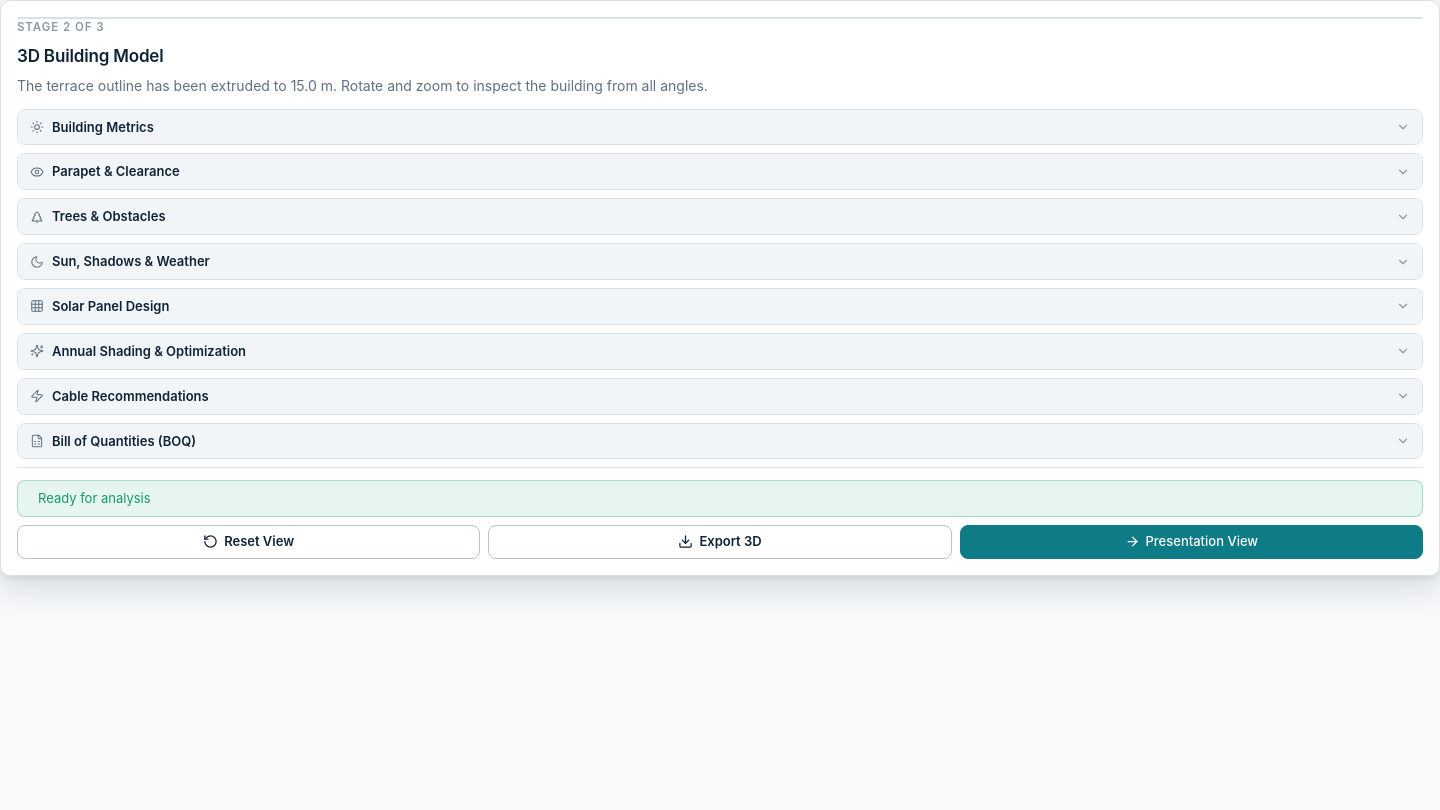
Test case: ModelPanel default-collapsed inspector sections › expands the Bill of Quantities (BOQ) collapsible section and shows BOM content & CSV download
// Expand BOQ
Click the button with class "collapsible-section__header" showing "Bill of Quantities (BOQ)".
click(124, 441)  # box [18,424,1422,458]
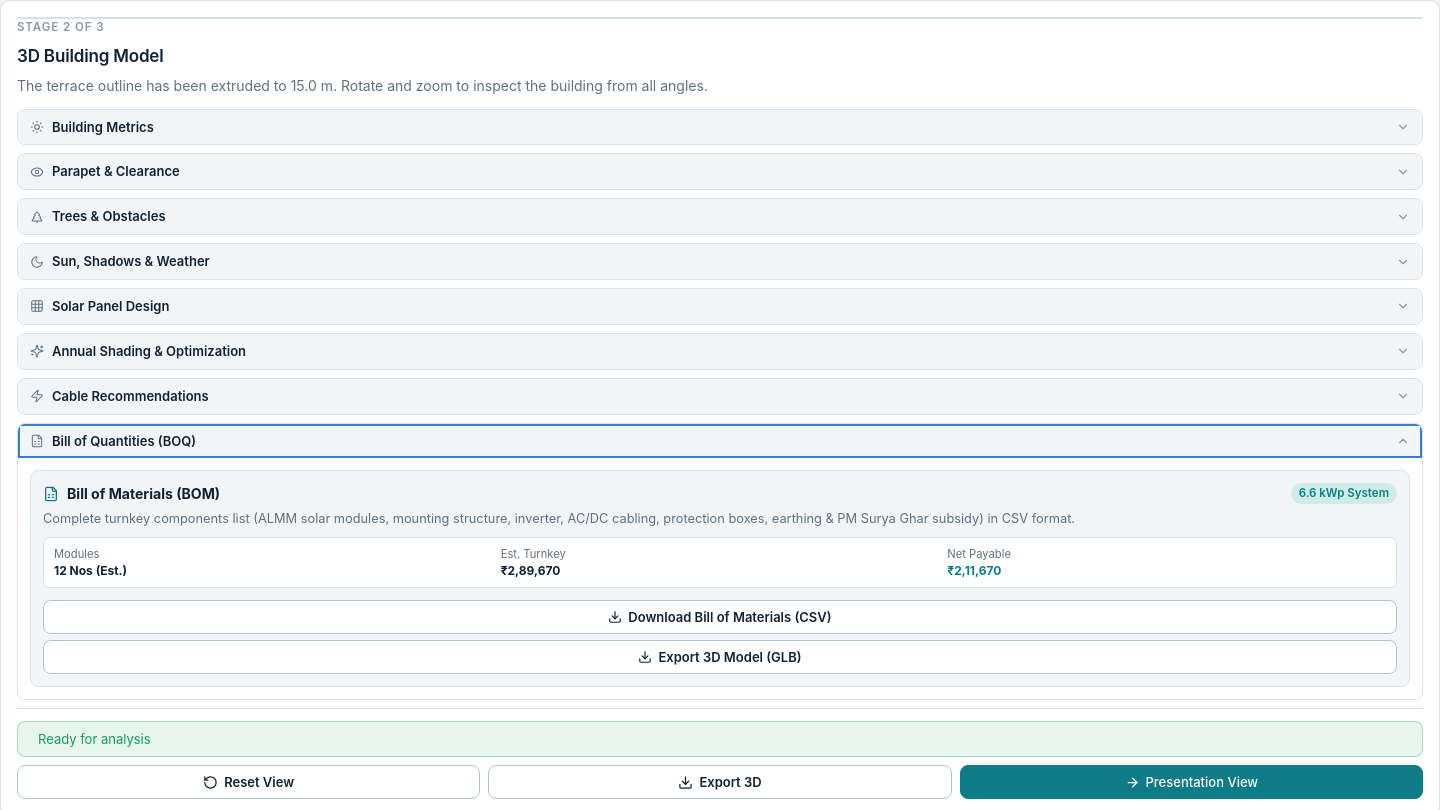
Expected: the text "Bill of Materials (BOM)" is shown, [67,484,220,504]
Expected: the text "6.6 kWp System" is shown, [1291,483,1397,504]
Expected: the button "Download Bill of Materials (CSV)" is shown, [43,600,1397,634]
